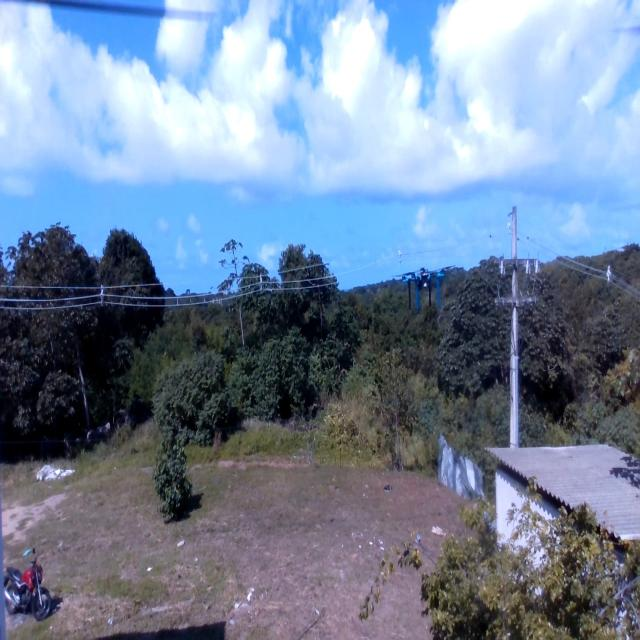-uav-: (395, 256, 459, 324)
